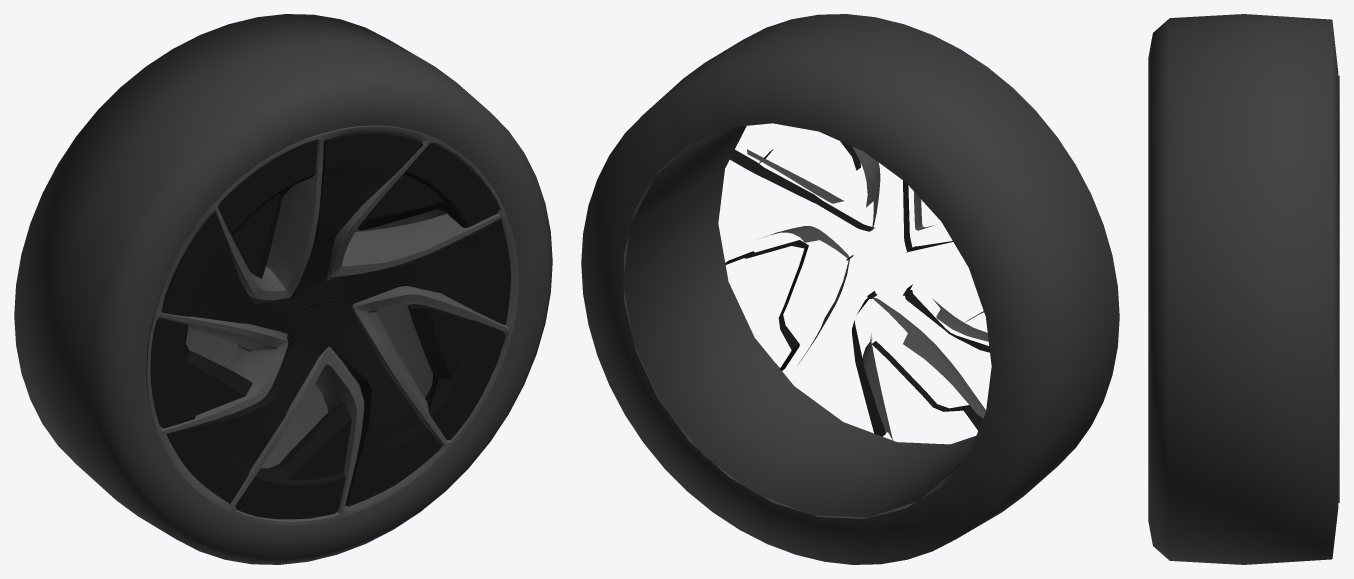
Rendered from Wheel_Standard.glb.
3 views of the same model, side by side, from view 1: azimuth 30°, elevation 25°; view 2: azimuth 150°, elevation 25°; view 3: azimuth 270°, elevation 25° (orthographic). The views are drawn at different scales.
Visible parts, largest first — view 1: Wheel_Standard2; view 2: Wheel_Standard2; view 3: Wheel_Standard2.
Boxes of the visible parts, x1,y1,x2,y2 form: Wheel_Standard2: [14, 14, 552, 564]; Wheel_Standard2: [581, 14, 1119, 564]; Wheel_Standard2: [1148, 14, 1339, 564].
Bounding box in the file's own units: 0.7408 × 0.7394 × 0.2575.
Materials: 2 (1 with a texture image).
